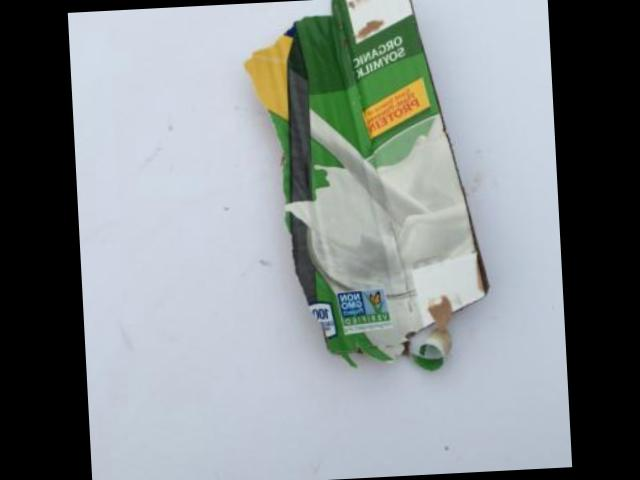cardboard paper: (243, 0, 485, 367)
